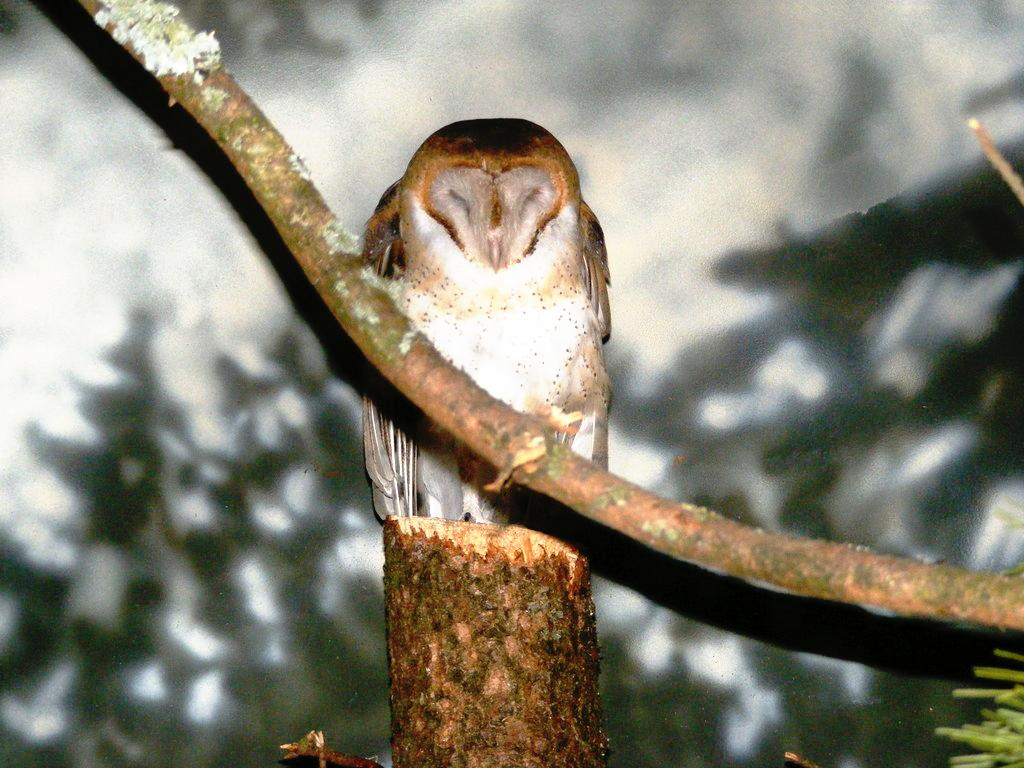Owl: (368, 119, 614, 526)
